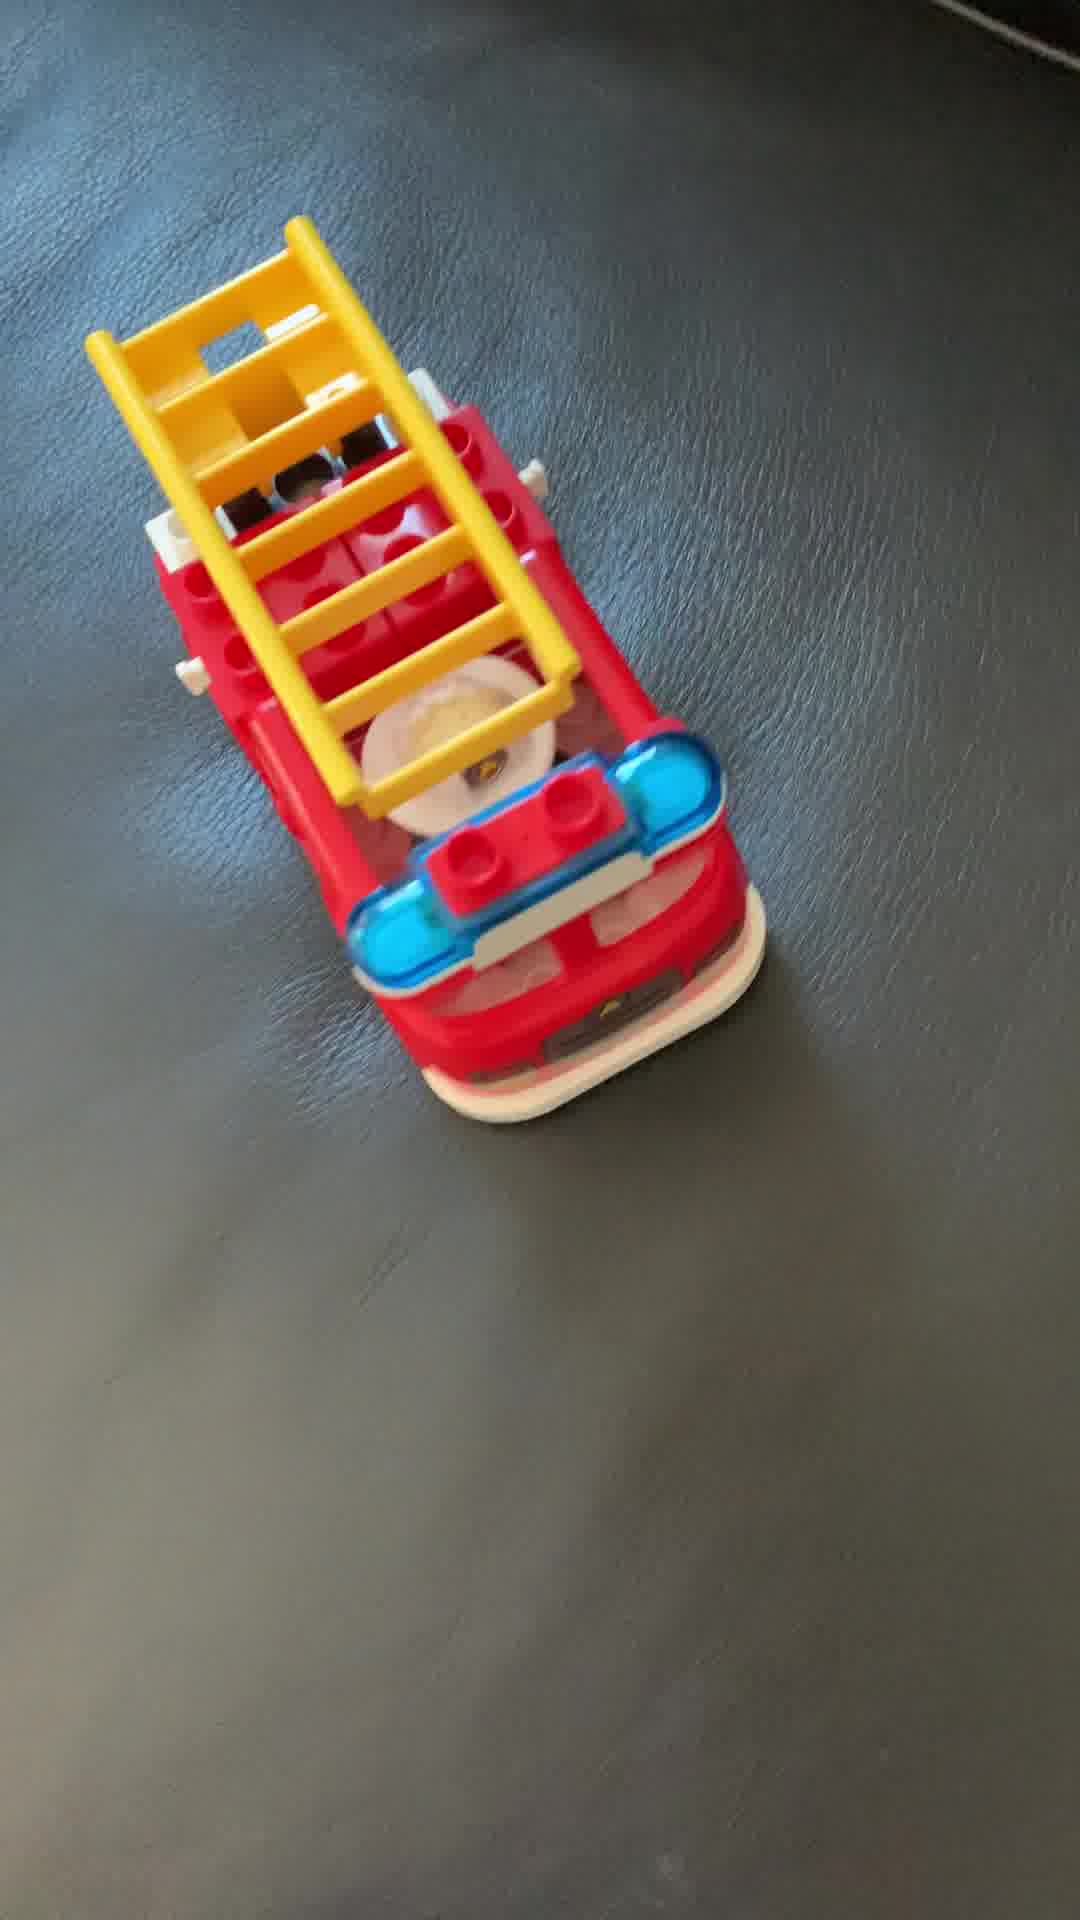lego fire truck: (94, 214, 767, 1129)
